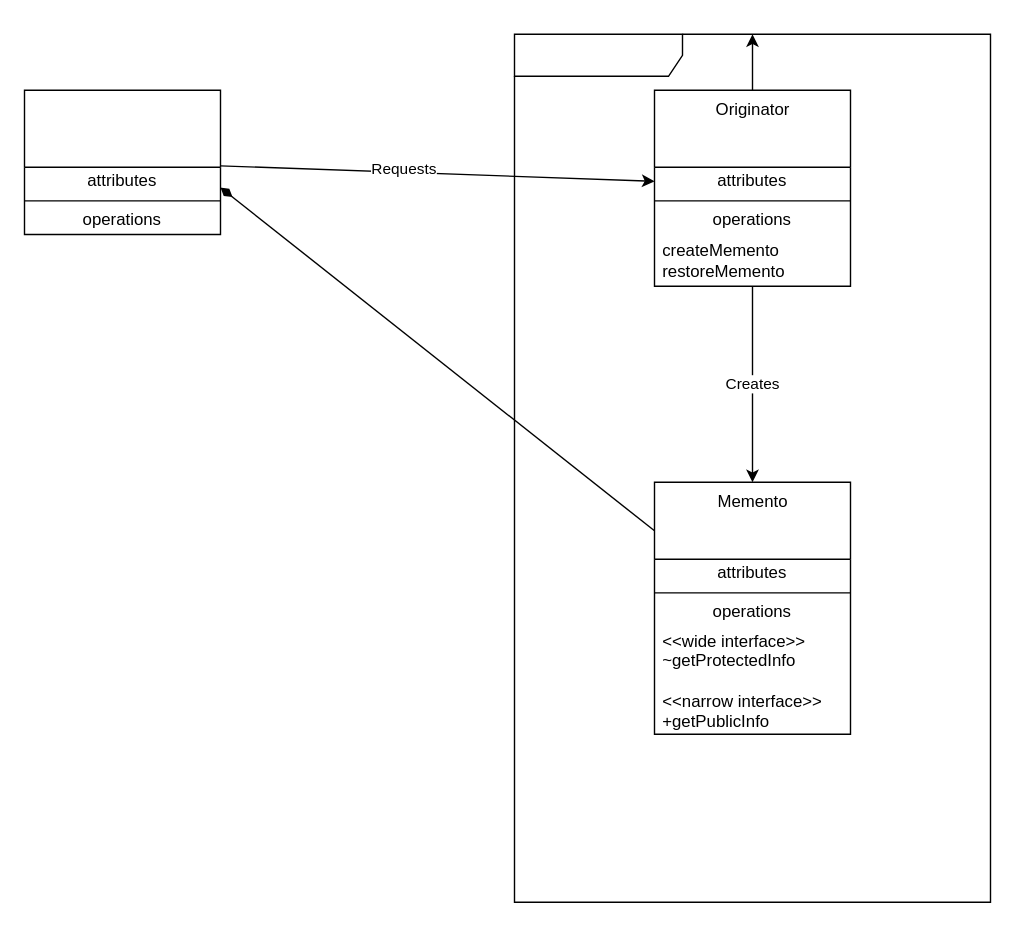
Some shapes in this 1015 by 927 pixel diagram are drawn without their labels. Each missing label, with the box of its shape:
caretaker: (23, 89, 220, 234)
package: (513, 33, 990, 902)
